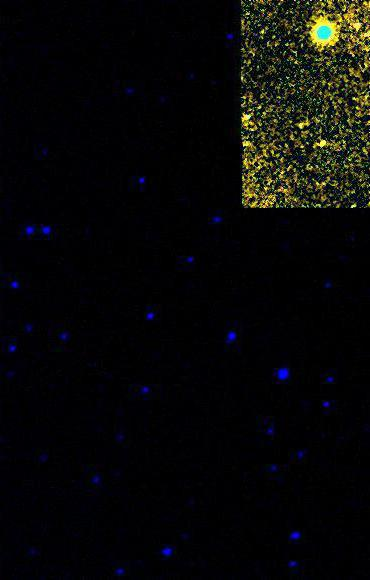star: (308, 16, 338, 46)
